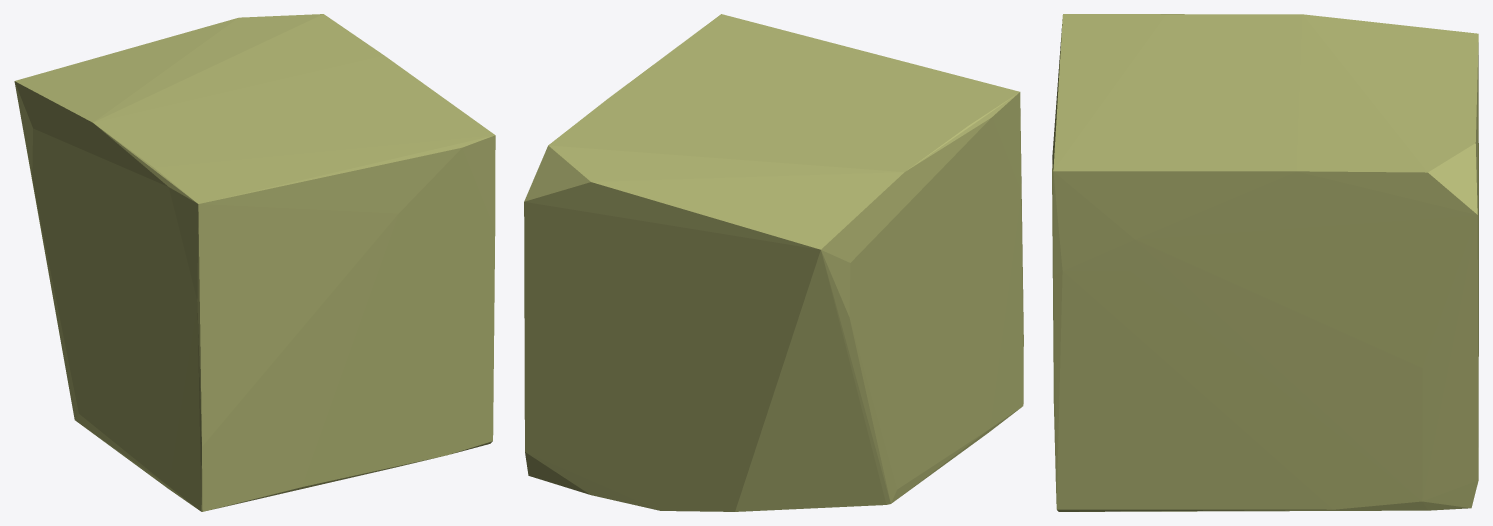
The model's file is pallet_assembly_a05.glb.
3 renders of one model, left to right at view 1: azimuth 30°, elevation 25°; view 2: azimuth 150°, elevation 25°; view 3: azimuth 270°, elevation 25°, orthographic. The views are drawn at different scales.
Parts seen in each view (by area): view 1: geometry_0; view 2: geometry_0; view 3: geometry_0.
Part boxes in pixels (bbox=[...]): geometry_0: bbox=[14, 14, 495, 511]; geometry_0: bbox=[524, 14, 1023, 511]; geometry_0: bbox=[1052, 14, 1478, 511].
Bounding box in the file's own units: 0.423 × 0.4252 × 0.4798.
